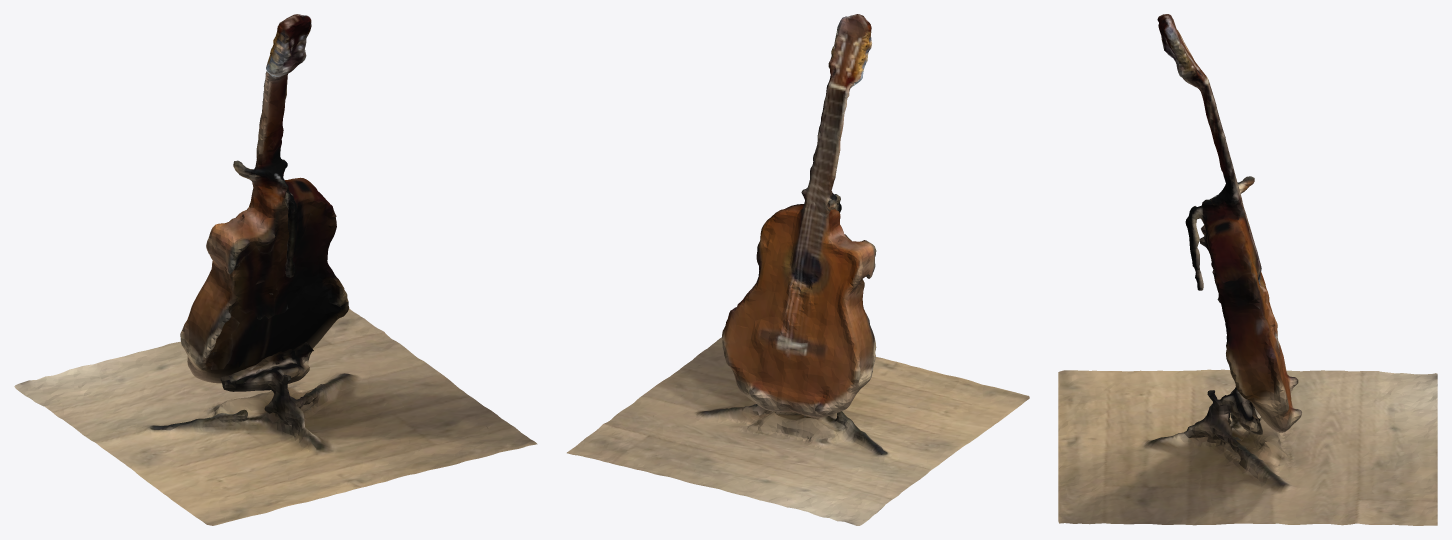
The model's file is yamaha.glb.
3 views of the same model, side by side, from view 1: azimuth 30°, elevation 25°; view 2: azimuth 150°, elevation 25°; view 3: azimuth 270°, elevation 25° (orthographic). The views are drawn at different scales.
Bounding box in the file's own units: 0.8324 × 1.07 × 0.8603.
Materials: 1 (1 with a texture image).
